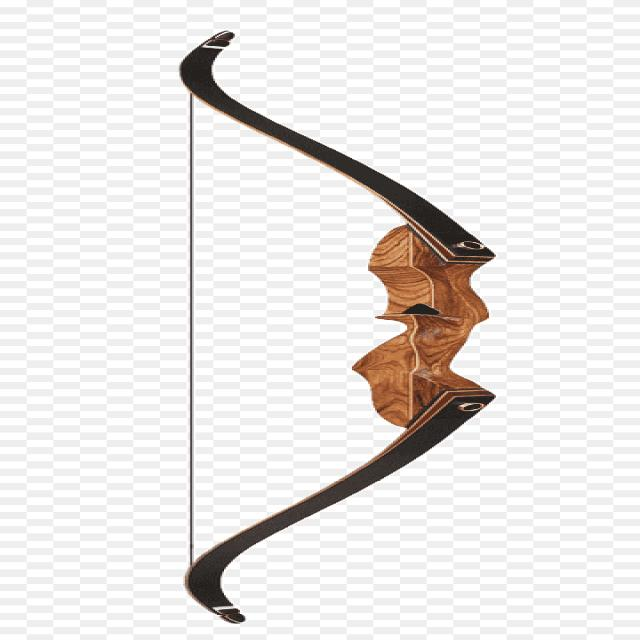X-Bow: (134, 20, 530, 626)
